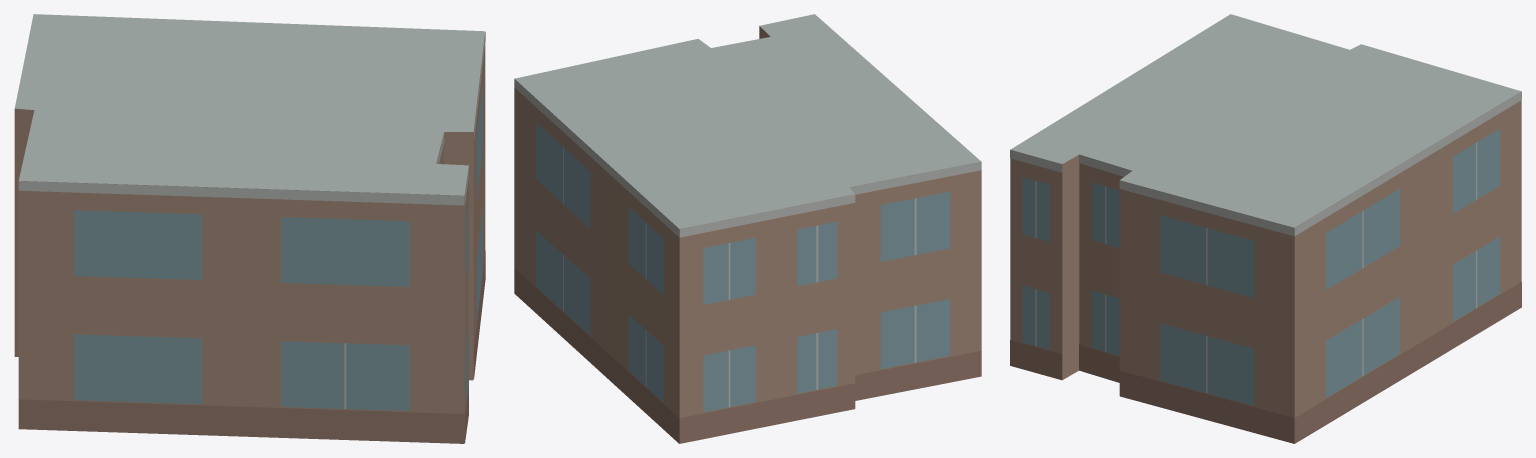
The model's file is survey-upis-32952858.glb.
3 views of the same model, side by side, from view 1: azimuth 30°, elevation 25°; view 2: azimuth 150°, elevation 25°; view 3: azimuth 270°, elevation 25° (orthographic). The views are drawn at different scales.
Parts seen in each view (by area): view 1: survey-upis-32952858.tmp; view 2: survey-upis-32952858.tmp; view 3: survey-upis-32952858.tmp.
Part boxes in pixels (x1,y1,x2,y2): survey-upis-32952858.tmp: (14,14,485,443); survey-upis-32952858.tmp: (514,14,981,443); survey-upis-32952858.tmp: (1010,14,1521,443).
Bounding box in the file's own units: 12.95 × 6.1 × 13.1.
